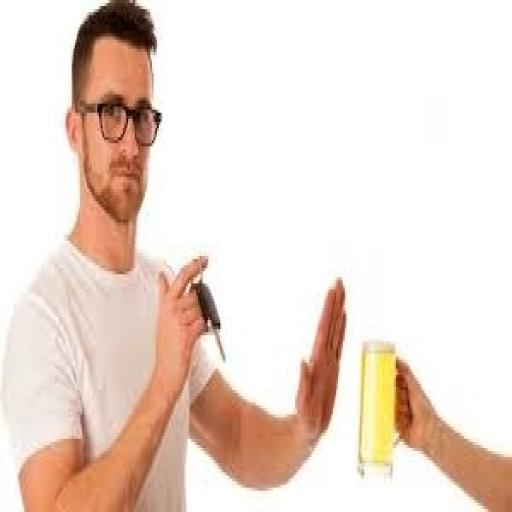drinking: (356, 338, 398, 478)
